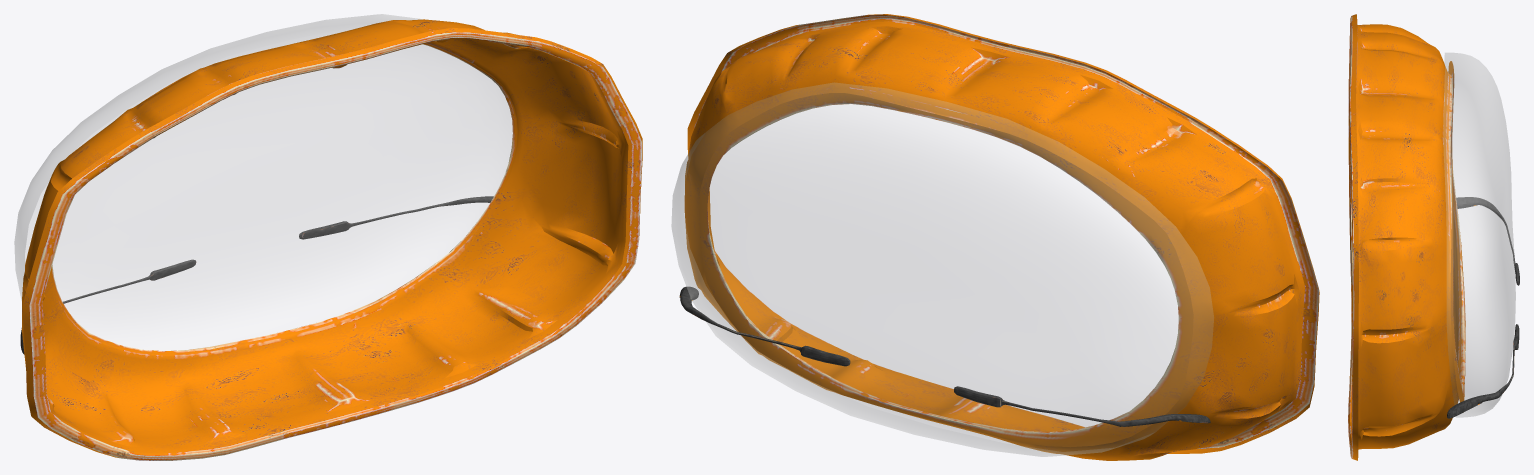
The model's file is helmet.glb.
The picture shows the model from 3 angles, left to right: view 1: azimuth 30°, elevation 25°; view 2: azimuth 150°, elevation 25°; view 3: azimuth 270°, elevation 25°; orthographic projection. The views are drawn at different scales.
Visible parts, largest first — view 1: Helmet; view 2: Helmet; view 3: Helmet.
Part boxes in pixels (<box>): Helmet: <box>14,14,642,460</box>; Helmet: <box>671,14,1319,460</box>; Helmet: <box>1348,14,1519,460</box>.
Size of the model in its own units: 5.42 by 3.11 by 1.5.
Materials: 2 (1 with a texture image).
